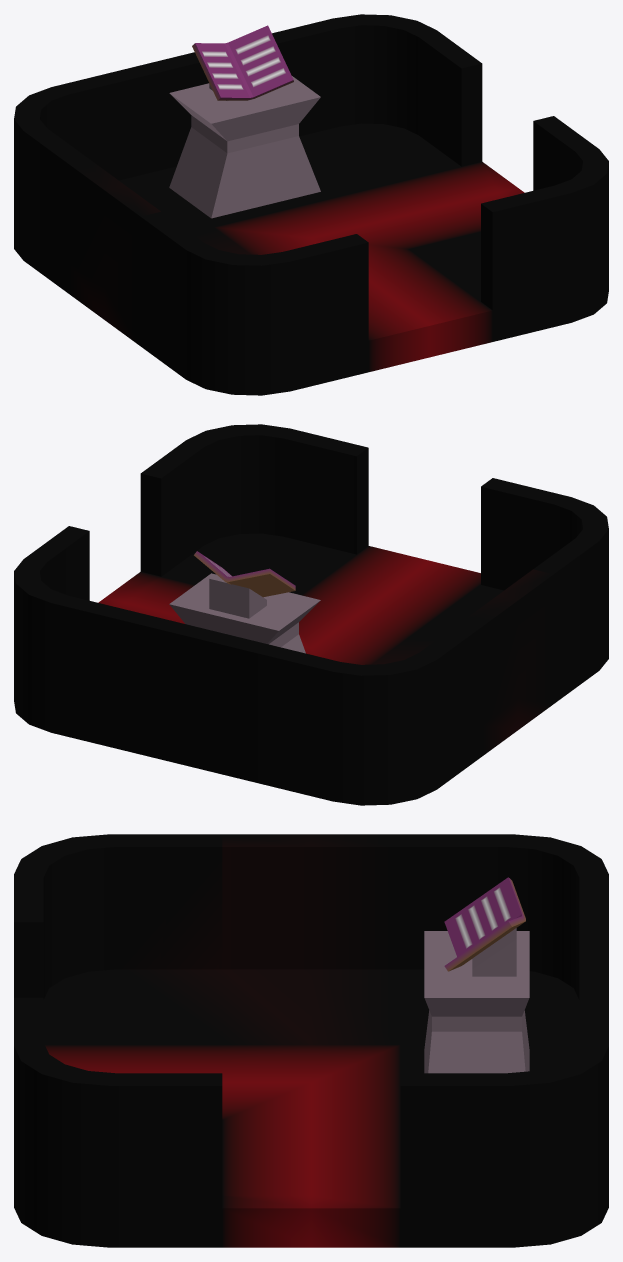
Rendered from Tile_Turn_D.R_Sangtum.fbx.
3 views of the same model, one above another, from view 1: azimuth 30°, elevation 25°; view 2: azimuth 150°, elevation 25°; view 3: azimuth 270°, elevation 25° (orthographic). The views are drawn at different scales.
Visible parts, largest first — view 1: Ri_Do_finish_room; view 2: Ri_Do_finish_room; view 3: Ri_Do_finish_room.
Boxes of the visible parts, x1,y1,x2,y2 form: Ri_Do_finish_room: (14, 14, 608, 395); Ri_Do_finish_room: (14, 424, 608, 805); Ri_Do_finish_room: (14, 834, 608, 1247).
Size of the model in its own units: 100 by 41.18 by 100.
